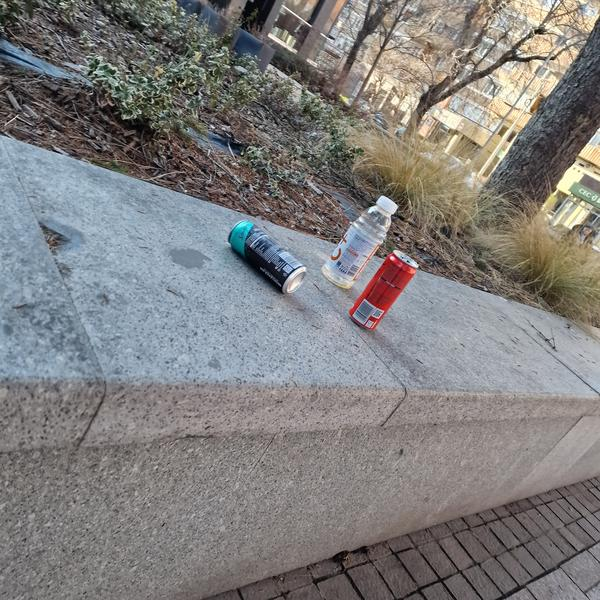can: (221, 211, 314, 299), (341, 245, 423, 335)
plastic_bottle: (317, 188, 406, 294)
